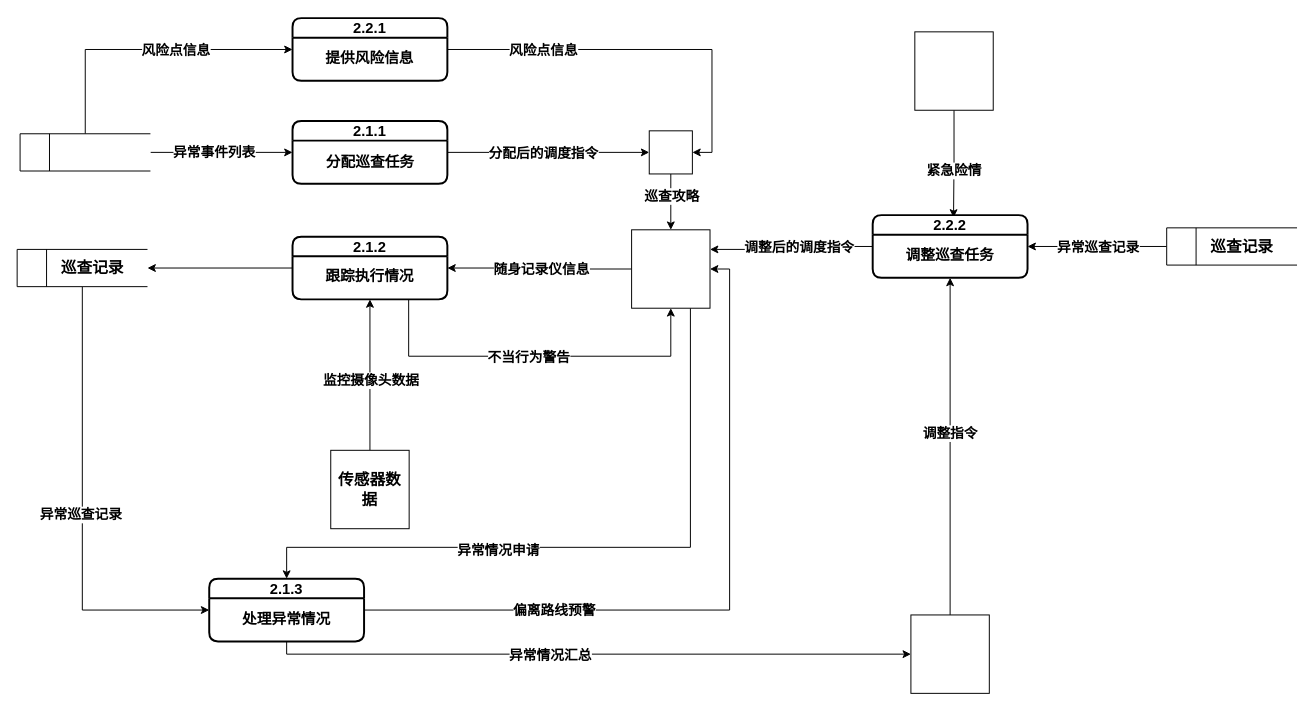
This 1314x711 diagram has some shape labels left out. Here are the shapes that lost their labels. From the top down, the box of each, then its label:
(914, 31, 993, 110): 应急响应模块
(19, 133, 150, 171): 异常记录
(631, 229, 710, 308): 网格巡查员
(910, 614, 989, 693): 铁路管理局
